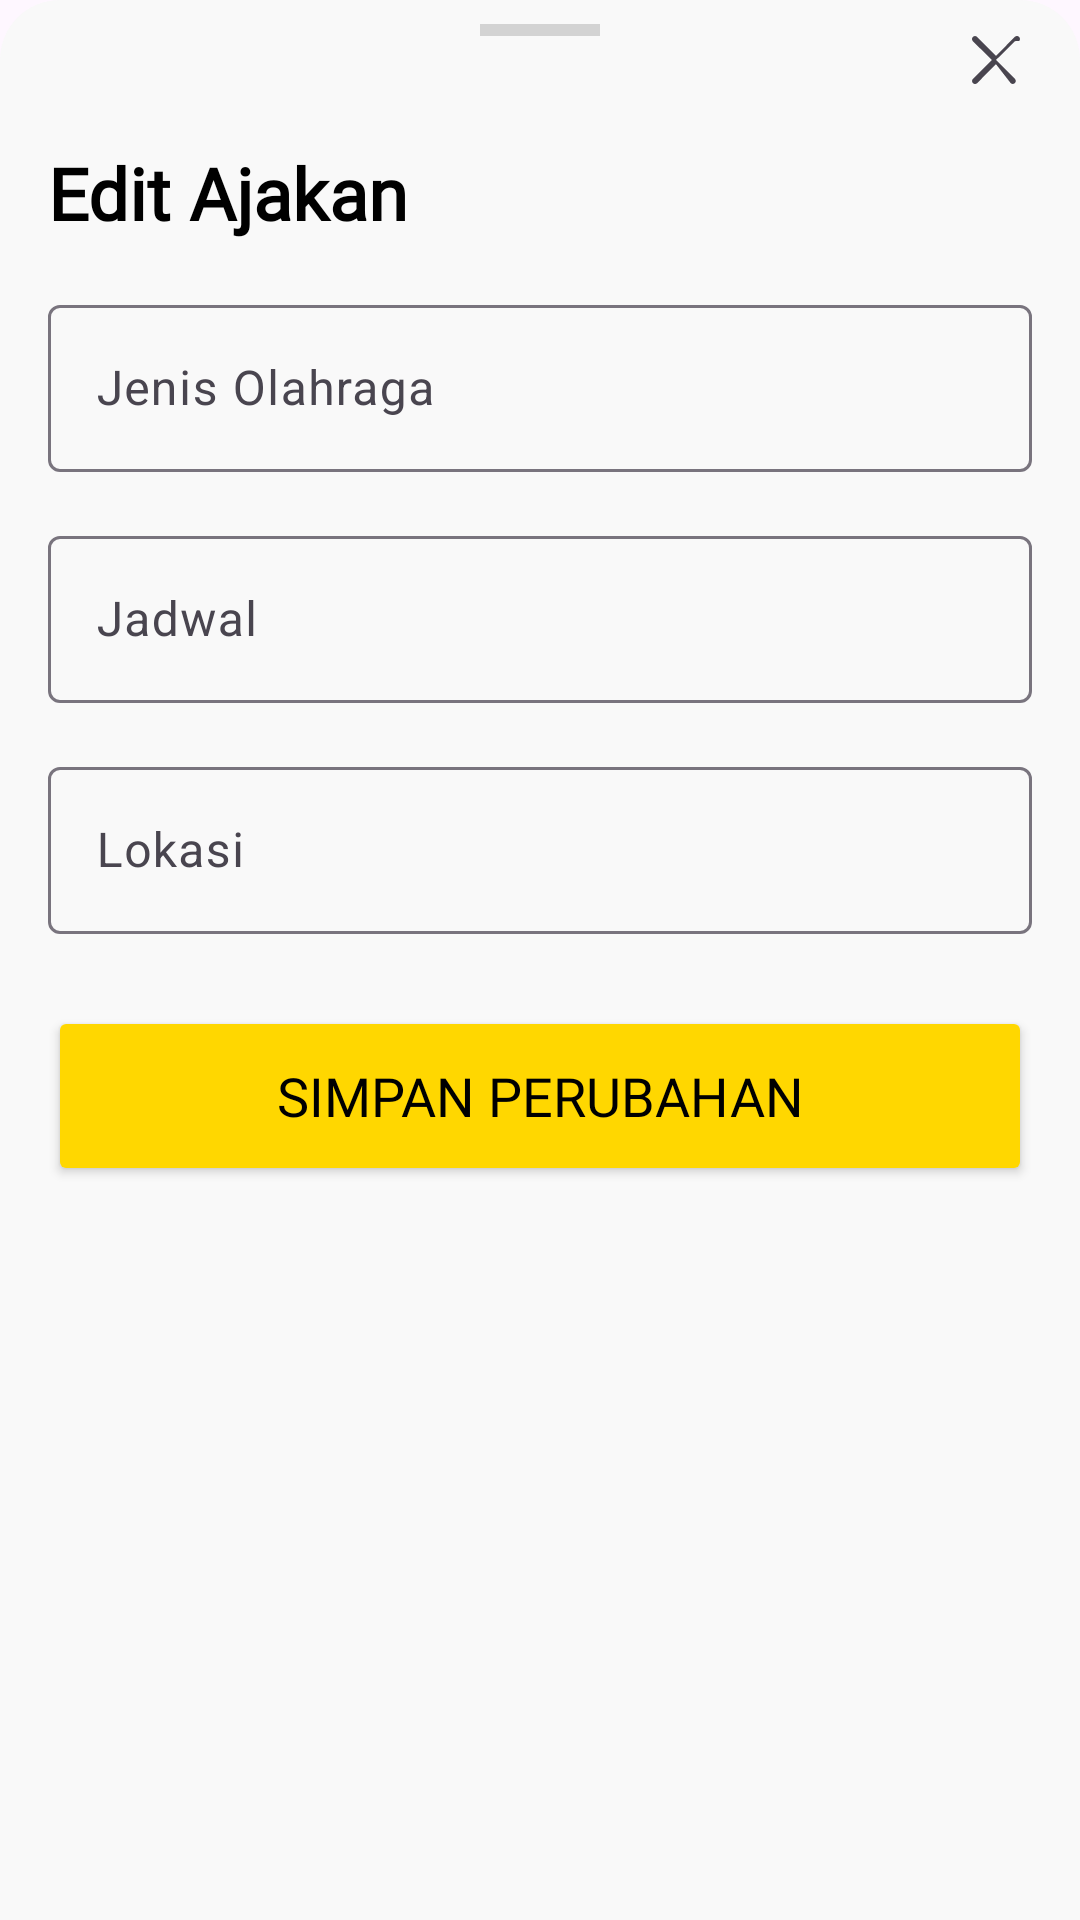

Locate icon controls on the screen. Image size 1080 x 1920, boxes as bbox=[x1, y1, x2, y2].
Tutup: bbox=[972, 36, 1020, 84]
